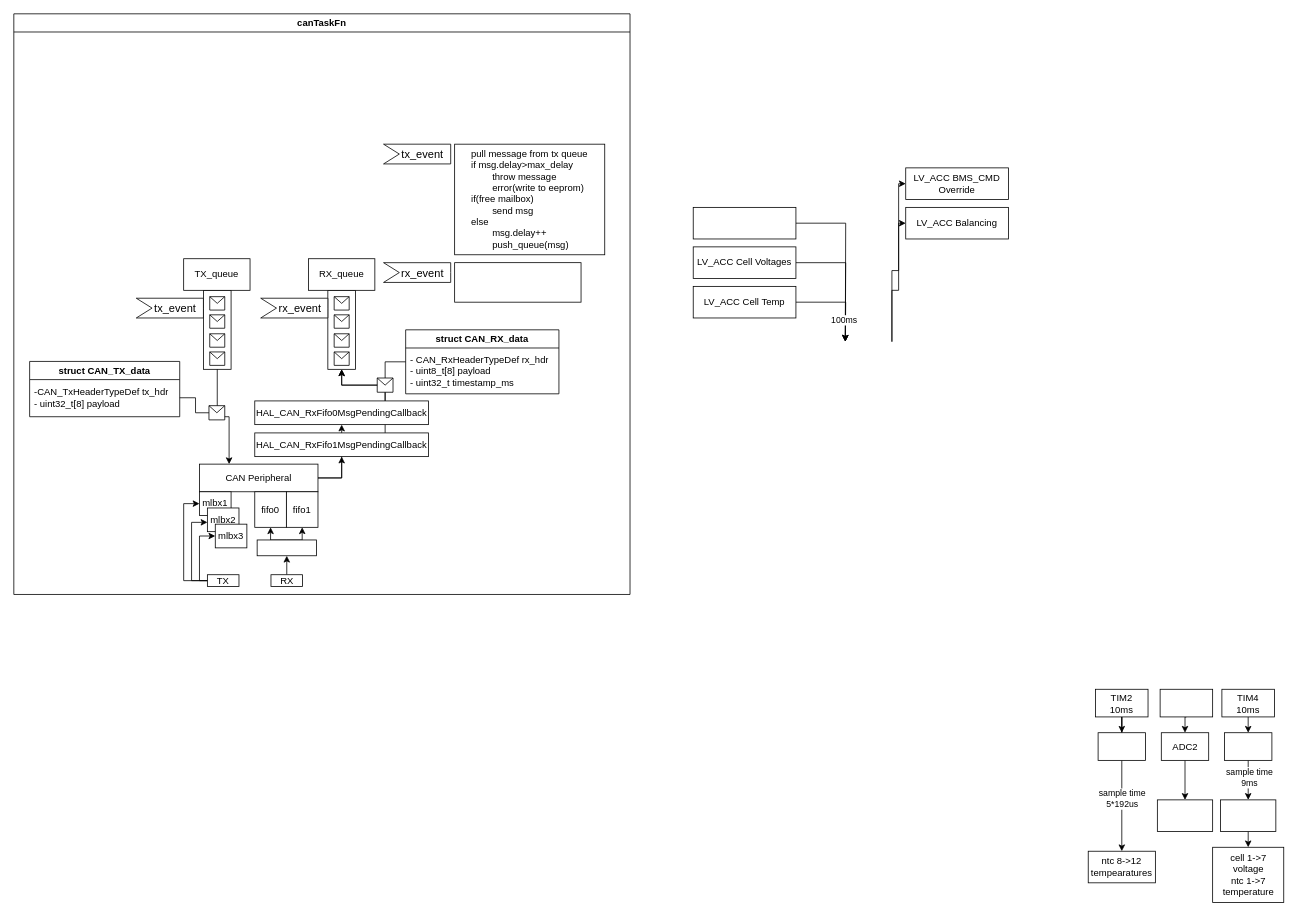
Image size: 1298x916. Some labels were removed from this diagram. Each missing label, with the centre of its shape:
32xfilters: the point at 286,547
ADC1: the point at 1121,746
hal-effect sensor: the point at 1185,815
l9963: the point at 1248,815
LV_ACC Current: the point at 744,223
push event above someone is listening: the point at 517,282
SPI: the point at 1248,746
TIM3 10ms: the point at 1186,702
